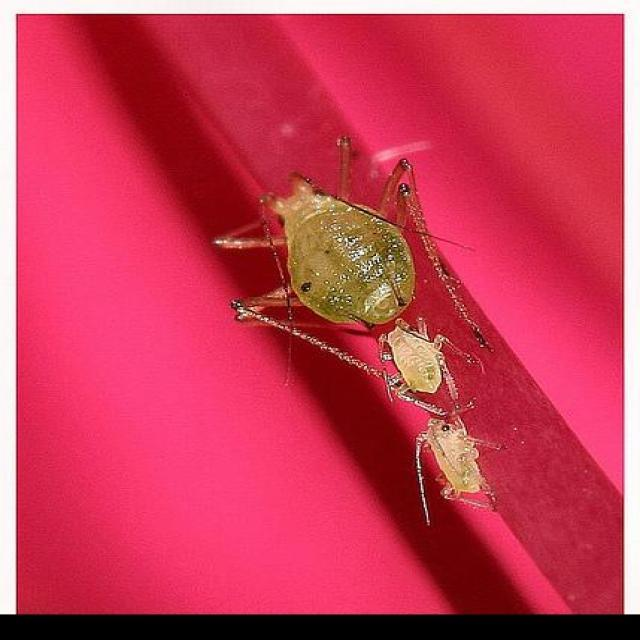aphid: (225, 152, 496, 358), (349, 314, 533, 436), (370, 401, 513, 528)
